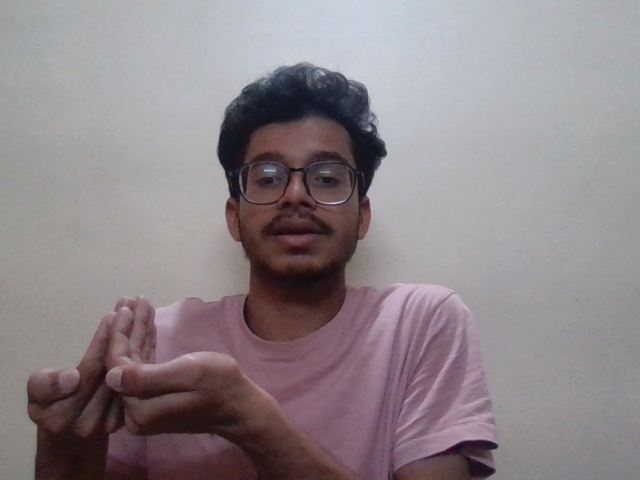tomorrow: (26, 290, 278, 447)
